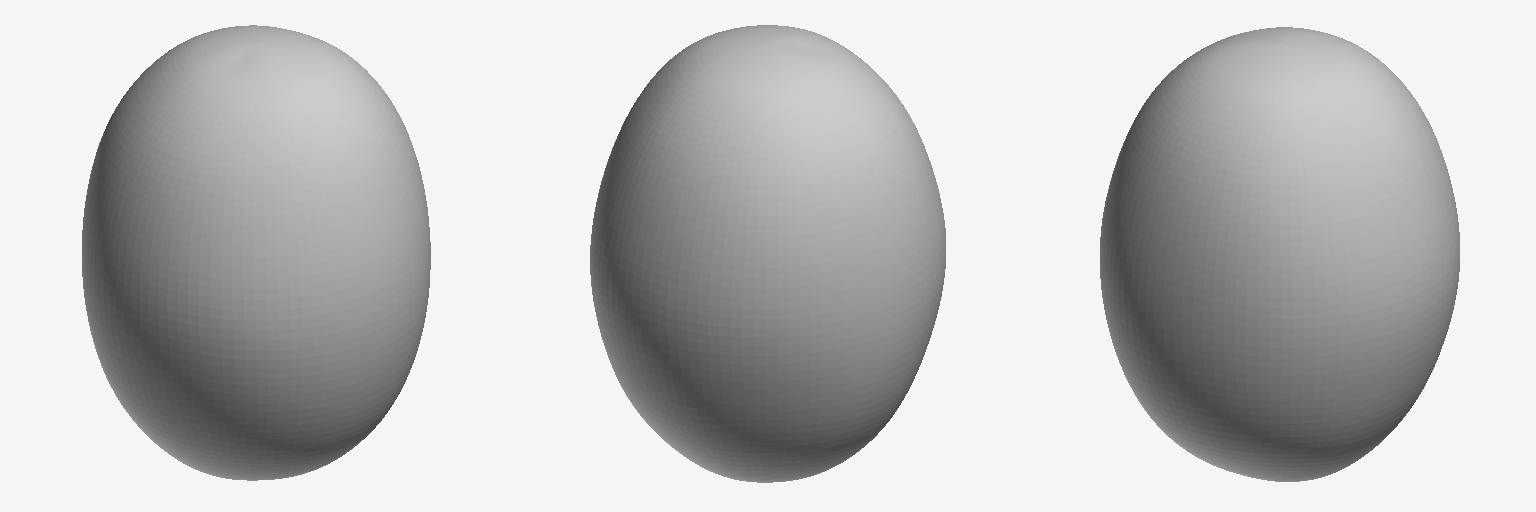
Rendered from 10211_Watermelon_v1-L3_centered.obj.
3 renders of one model, left to right at view 1: azimuth 30°, elevation 25°; view 2: azimuth 150°, elevation 25°; view 3: azimuth 270°, elevation 25°, orthographic.
Parts seen in each view (by area): view 1: Watermelon_Mesh; view 2: Watermelon_Mesh; view 3: Watermelon_Mesh.
Part boxes in pixels (x1,y1,x2,y2): Watermelon_Mesh: (82, 25, 430, 480); Watermelon_Mesh: (590, 25, 945, 482); Watermelon_Mesh: (1100, 27, 1459, 481).
Size of the model in its own units: 19.71 by 26.26 by 20.17.